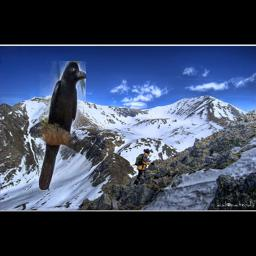Crow: (39, 61, 86, 191)
